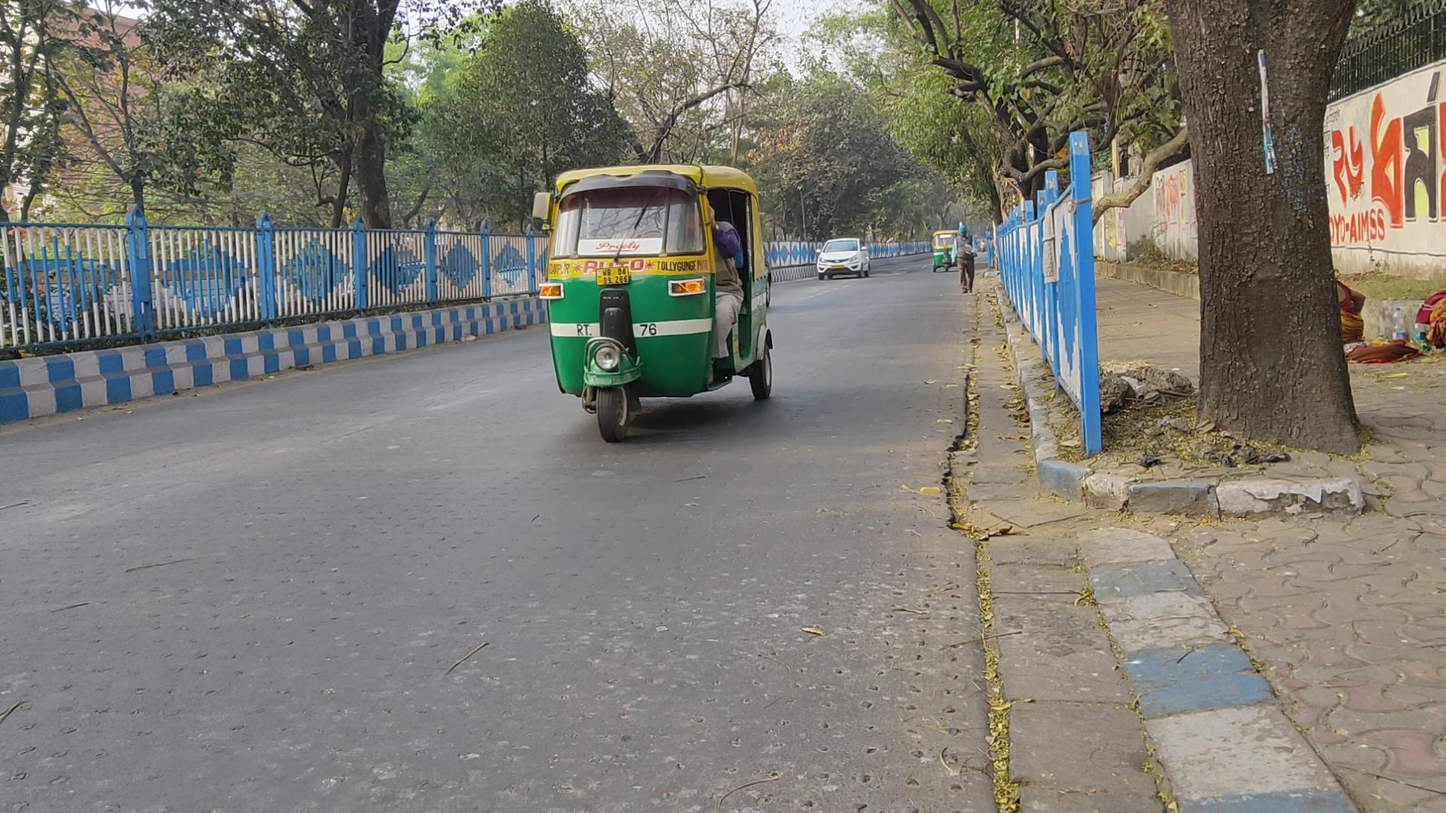Auto: (532, 162, 773, 443), (932, 230, 962, 273)
car: (813, 236, 870, 281)
